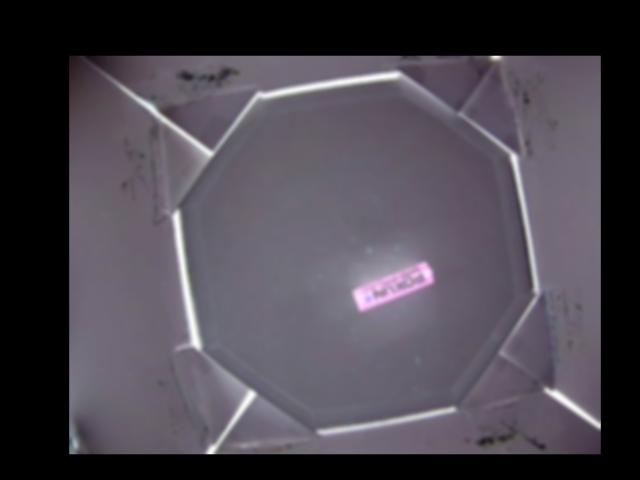Battery: (352, 262, 436, 308)
